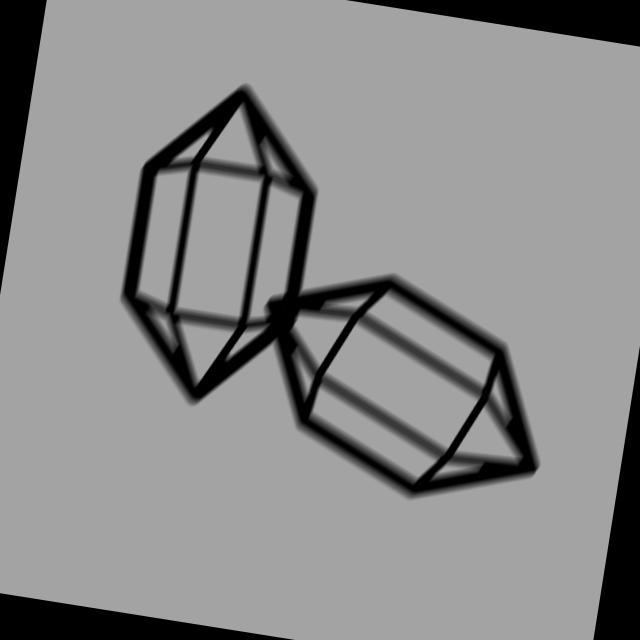crystal: (227, 244, 575, 530), (92, 57, 350, 433)
